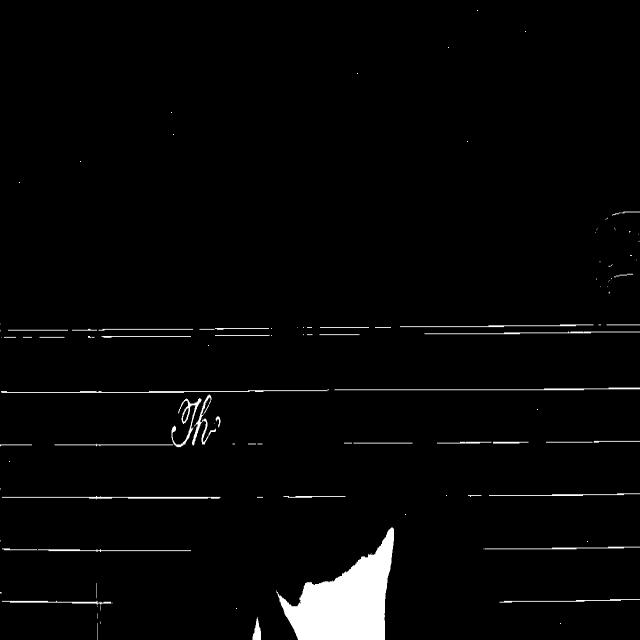hand: (280, 528, 393, 639), (252, 620, 261, 639)
noise: (0, 386, 640, 394), (394, 323, 640, 335), (0, 583, 112, 609), (2, 327, 196, 339), (0, 546, 191, 555), (434, 439, 640, 446), (0, 494, 220, 500), (466, 491, 640, 498), (300, 325, 393, 336), (500, 597, 640, 604), (483, 545, 640, 551), (197, 327, 273, 337), (282, 493, 346, 499), (53, 443, 175, 446), (342, 442, 416, 444), (0, 443, 34, 446), (96, 612, 98, 639), (96, 601, 98, 610), (248, 443, 262, 444), (232, 443, 235, 444), (96, 582, 96, 600)
not-noise: (171, 395, 219, 447)
page-marker: (596, 212, 640, 286)
